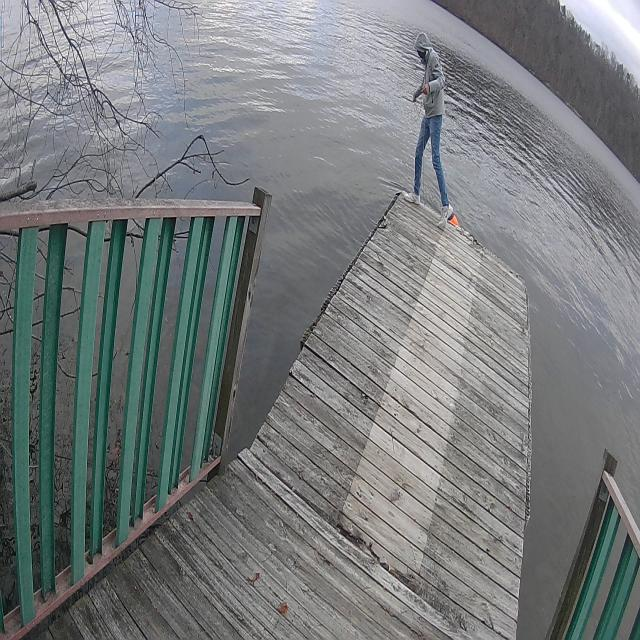Buoy: (448, 211, 460, 226)
